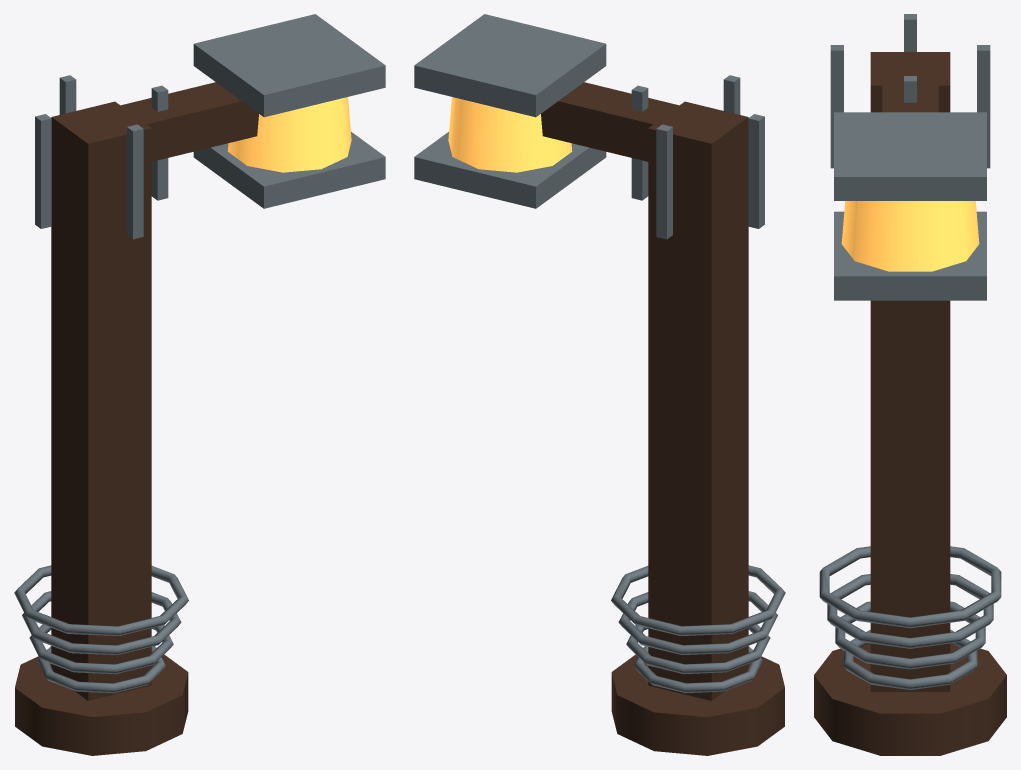
The model's file is branch-lantern-lod0.glb.
3 views of the same model, side by side, from view 1: azimuth 30°, elevation 25°; view 2: azimuth 150°, elevation 25°; view 3: azimuth 270°, elevation 25° (orthographic). The views are drawn at different scales.
Parts seen in each view (by area): view 1: MESH_branch_lantern_wood, MESH_branch_lantern_metal, MESH_branch_lantern_glass; view 2: MESH_branch_lantern_wood, MESH_branch_lantern_metal, MESH_branch_lantern_glass; view 3: MESH_branch_lantern_wood, MESH_branch_lantern_metal, MESH_branch_lantern_glass.
Part boxes in pixels (<box>): MESH_branch_lantern_wood: <box>15,82,258,755</box>; MESH_branch_lantern_metal: <box>14,14,385,693</box>; MESH_branch_lantern_glass: <box>227,97,351,172</box>; MESH_branch_lantern_wood: <box>541,82,784,755</box>; MESH_branch_lantern_metal: <box>414,14,785,693</box>; MESH_branch_lantern_glass: <box>448,97,572,172</box>; MESH_branch_lantern_wood: <box>814,52,1006,755</box>; MESH_branch_lantern_metal: <box>819,14,1001,689</box>; MESH_branch_lantern_glass: <box>841,201,979,271</box>.
Bounding box in the file's own units: 2.45 × 4.46 × 1.16.
